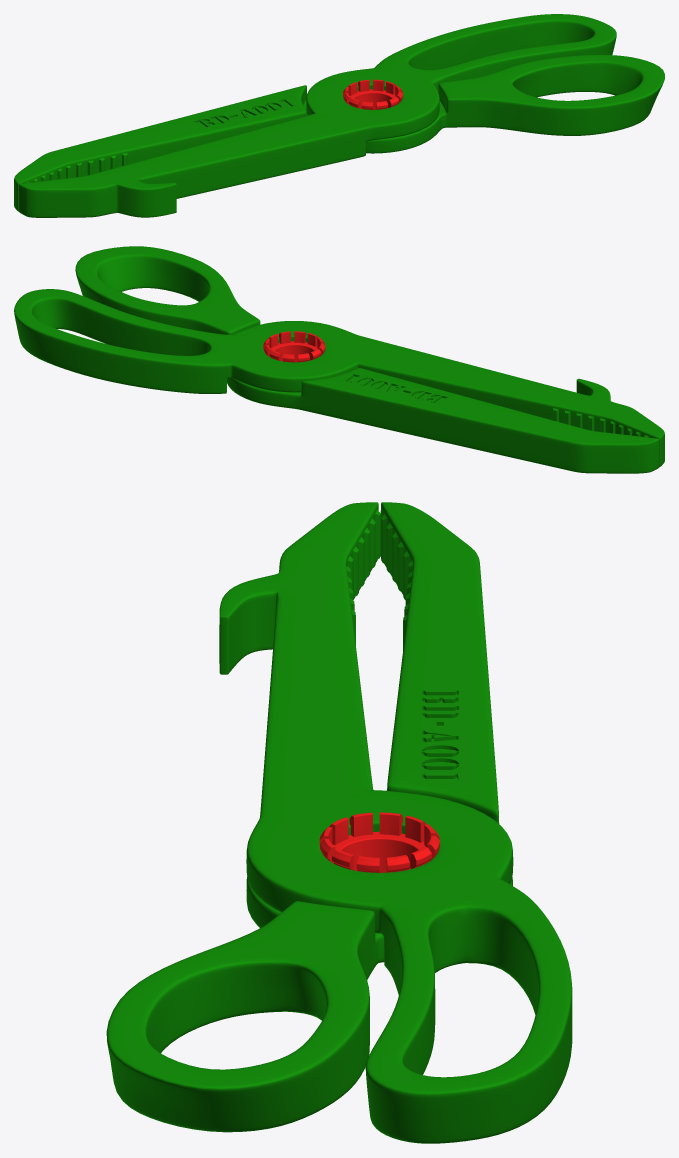
File: arm_extension_fbx.FBX
3 renders of one model, top to bottom at view 1: azimuth 30°, elevation 25°; view 2: azimuth 150°, elevation 25°; view 3: azimuth 270°, elevation 25°, orthographic. The views are drawn at different scales.
Parts seen in each view (by area): view 1: Line012, Line013, Line014; view 2: Line012, Line013, Line014; view 3: Line012, Line013, Line014.
Boxes of the visible parts, left/top/right/bottom form: Line012: left=19, top=14, right=616, bottom=217; Line013: left=14, top=55, right=664, bottom=211; Line014: left=343, top=79, right=402, bottom=109; Line012: left=14, top=289, right=664, bottom=467; Line013: left=75, top=246, right=659, bottom=473; Line014: left=263, top=331, right=325, bottom=362; Line012: left=219, top=502, right=572, bottom=1143; Line013: left=106, top=502, right=512, bottom=1132; Line014: left=319, top=812, right=439, bottom=872.
Bounding box in the file's own units: 10.29 × 0.6431 × 3.42.
